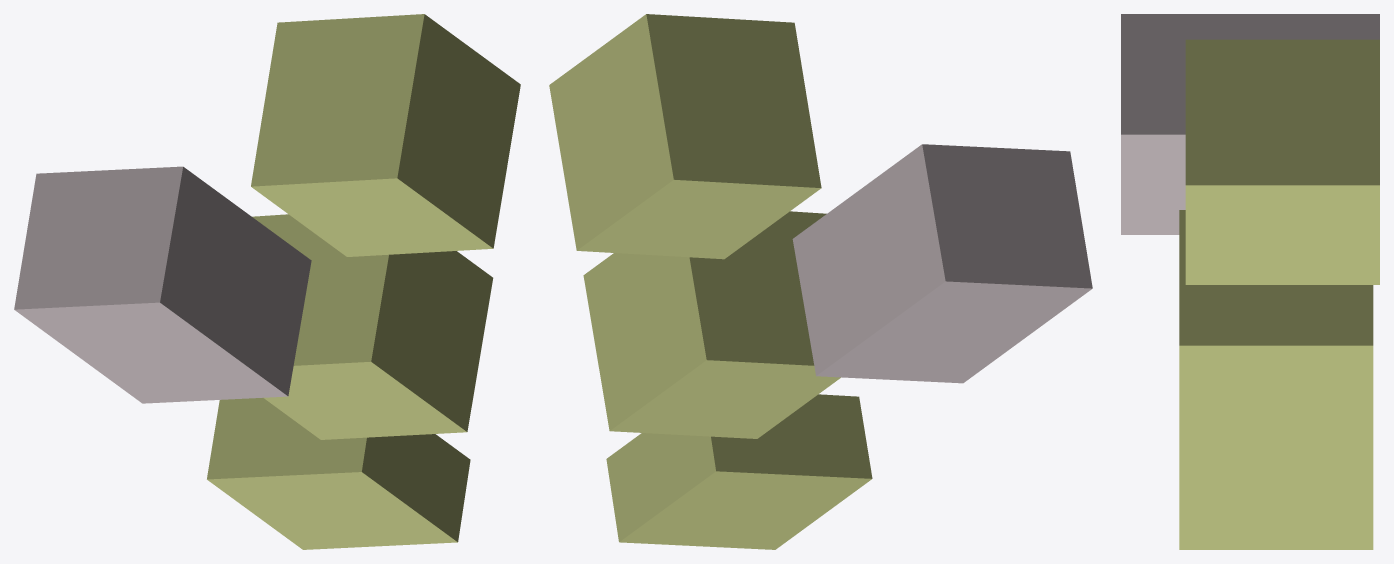
3 views of the same model, side by side, from view 1: azimuth 30°, elevation 25°; view 2: azimuth 150°, elevation 25°; view 3: azimuth 270°, elevation 25° (orthographic).
Parts seen in each view (by area): view 1: 0_1_0_0_1_0_2_2_2_1; view 2: 0_1_0_0_1_0_2_2_2_1; view 3: 0_1_0_0_1_0_2_2_2_1.
Boxes of the visible parts, <box> form: 0_1_0_0_1_0_2_2_2_1: <box>14,14,520,549</box>; 0_1_0_0_1_0_2_2_2_1: <box>549,14,1092,549</box>; 0_1_0_0_1_0_2_2_2_1: <box>1121,14,1379,549</box>.
Size of the model in its own units: 22.15 by 24.07 by 12.
